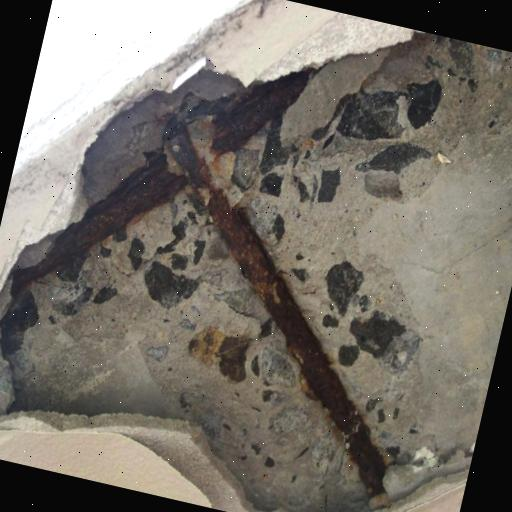spalling: (0, 29, 512, 512)
